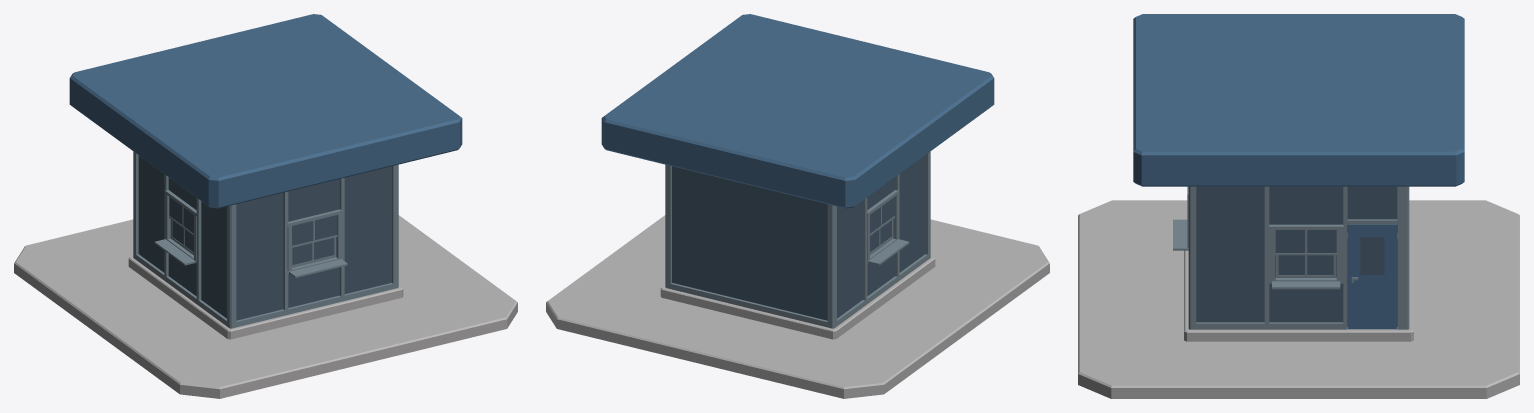
File: security-gatehouse-fd00c8.glb
The picture shows the model from 3 angles, left to right: view 1: azimuth 30°, elevation 25°; view 2: azimuth 150°, elevation 25°; view 3: azimuth 270°, elevation 25°; orthographic projection. The views are drawn at different scales.
Parts seen in each view (by area): view 1: gatehouse, hatch-front-sash, hatch-left-sash; view 2: gatehouse, hatch-left-sash; view 3: gatehouse, door-leaf, hatch-right-sash.
Boxes of the visible parts, box(x1,y1,x2,y2) form: gatehouse: box(14, 14, 517, 398); hatch-front-sash: box(292, 237, 336, 267); hatch-left-sash: box(170, 219, 193, 254); gatehouse: box(546, 14, 1049, 398); hatch-left-sash: box(870, 219, 893, 254); gatehouse: box(1078, 14, 1519, 398); door-leaf: box(1348, 224, 1396, 329); hatch-right-sash: box(1276, 255, 1336, 277).
Size of the model in its own units: 8 by 4.45 by 8.
